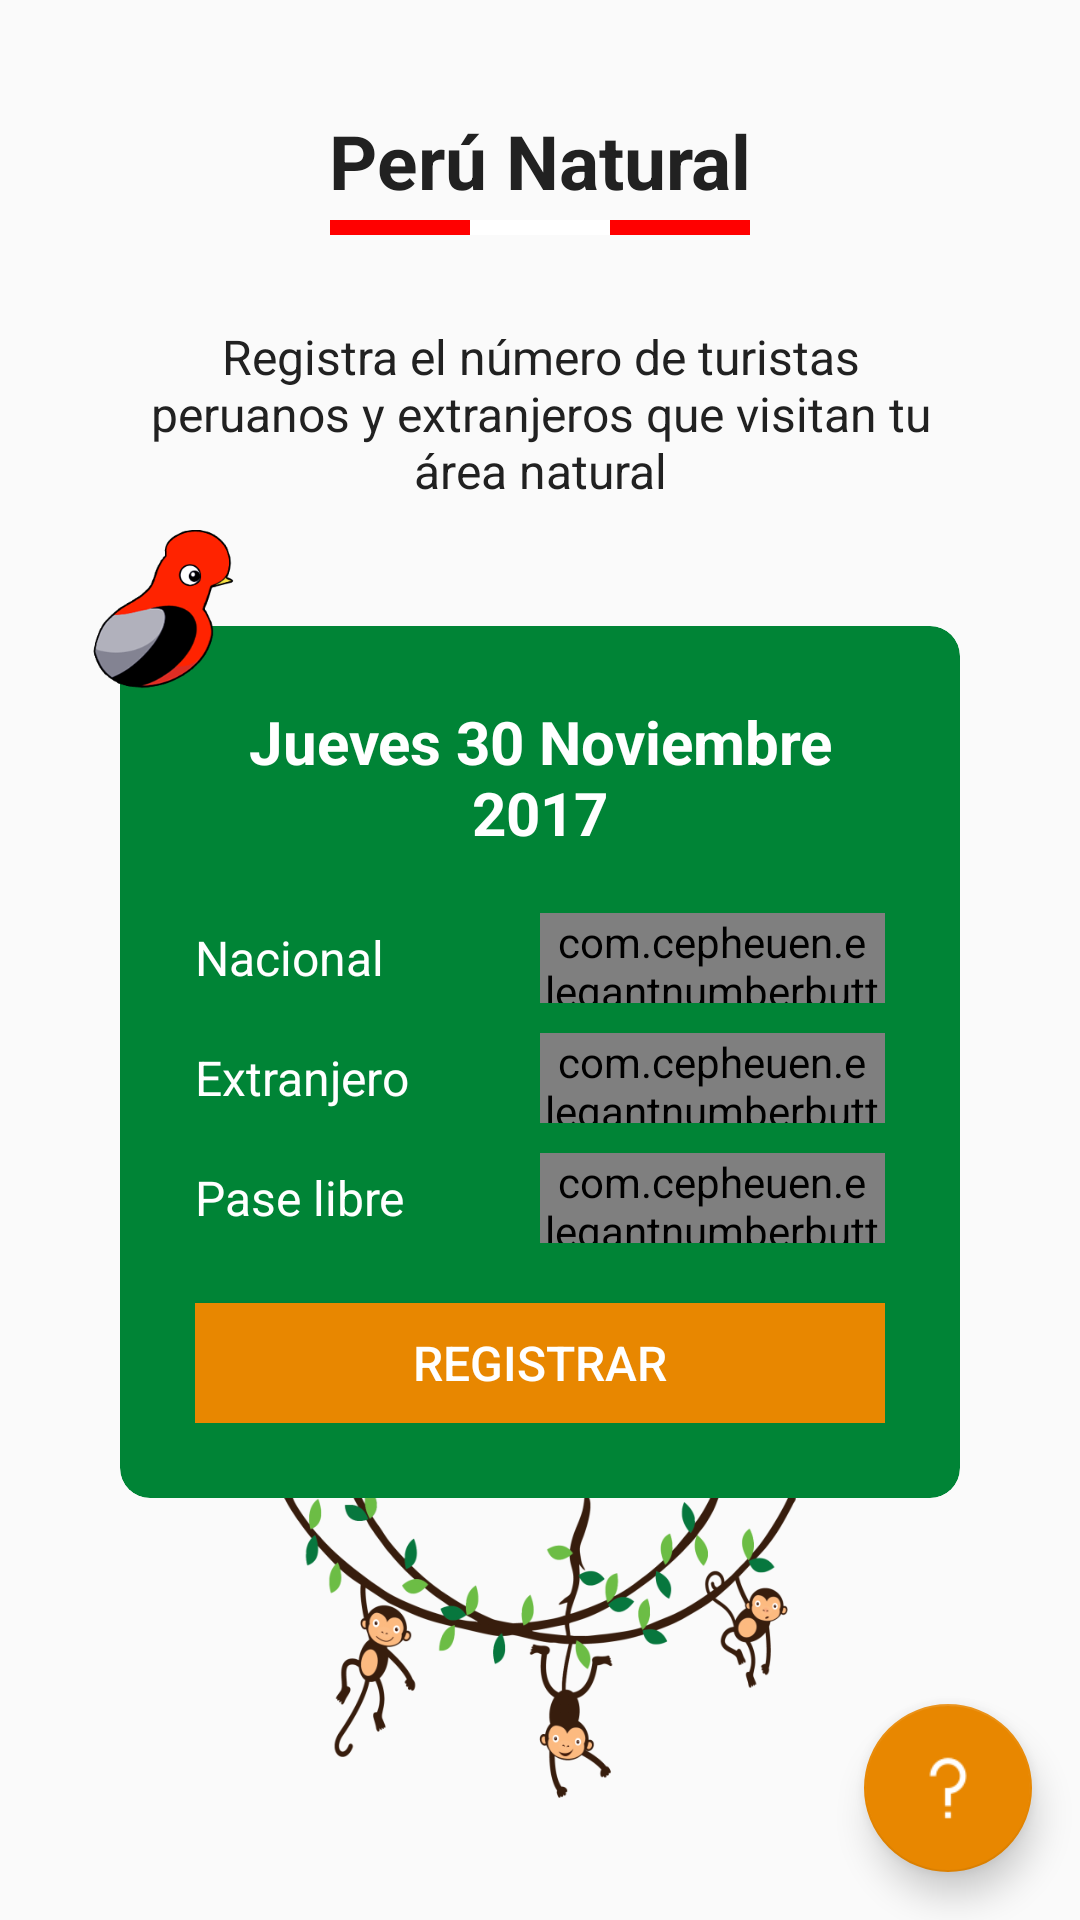

Icon bounding boxes for this 1080×1920 phone screenshot, format bbox=[x1, y1, x2, y2]:
gallito rocas: bbox=[93, 530, 246, 692]
help: bbox=[864, 1704, 1032, 1872]
